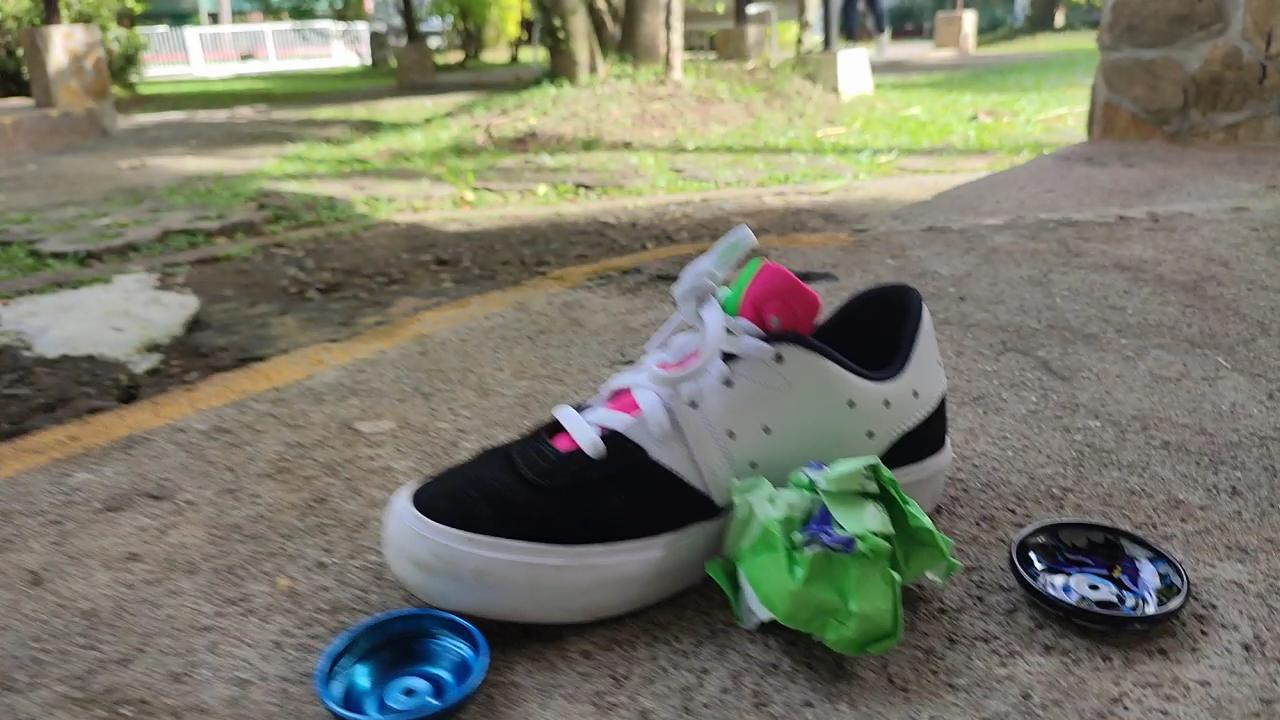Paper: (695, 438, 969, 672)
